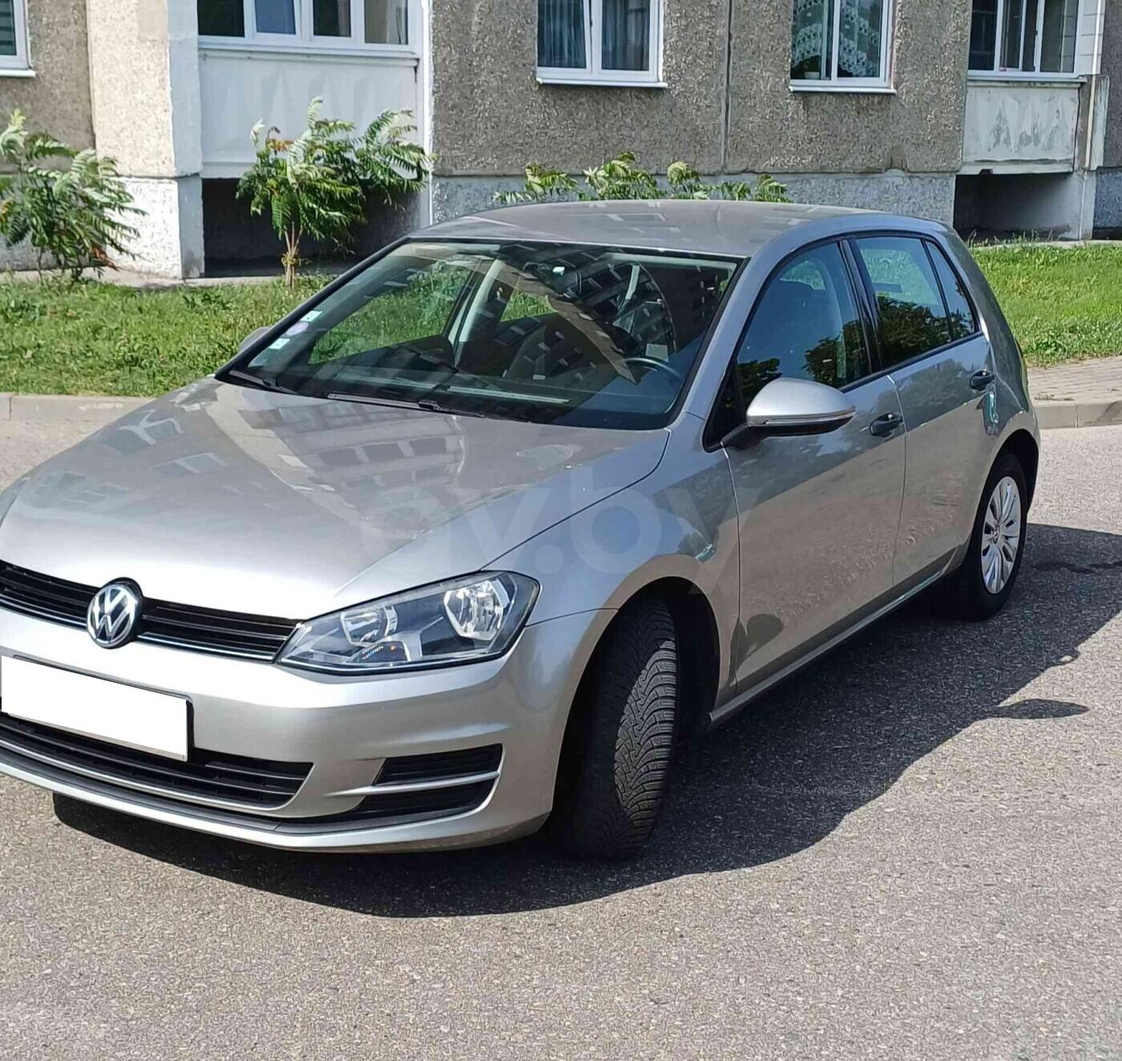Golf_2012-2017: (0, 191, 1047, 864)
